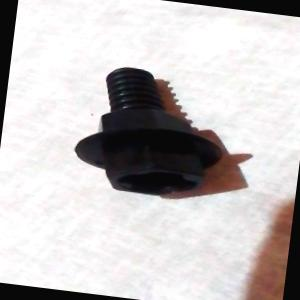parafuso: (70, 63, 234, 204)
